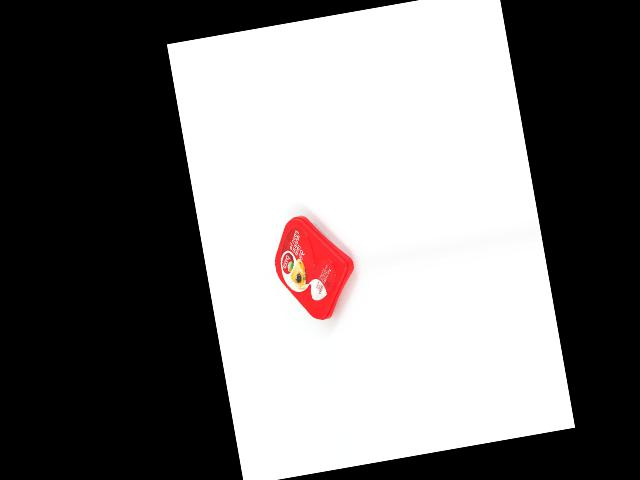cheese: (267, 208, 362, 326)
